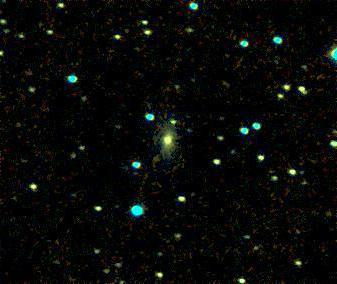star: (141, 144, 171, 174)
